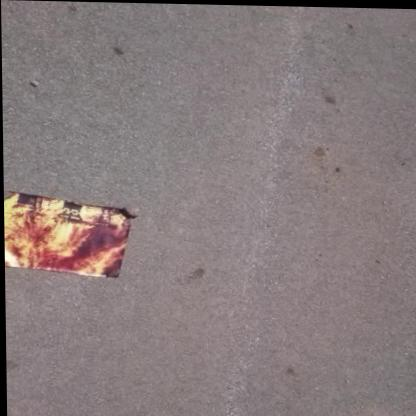fire-poster: (3, 190, 136, 280)
